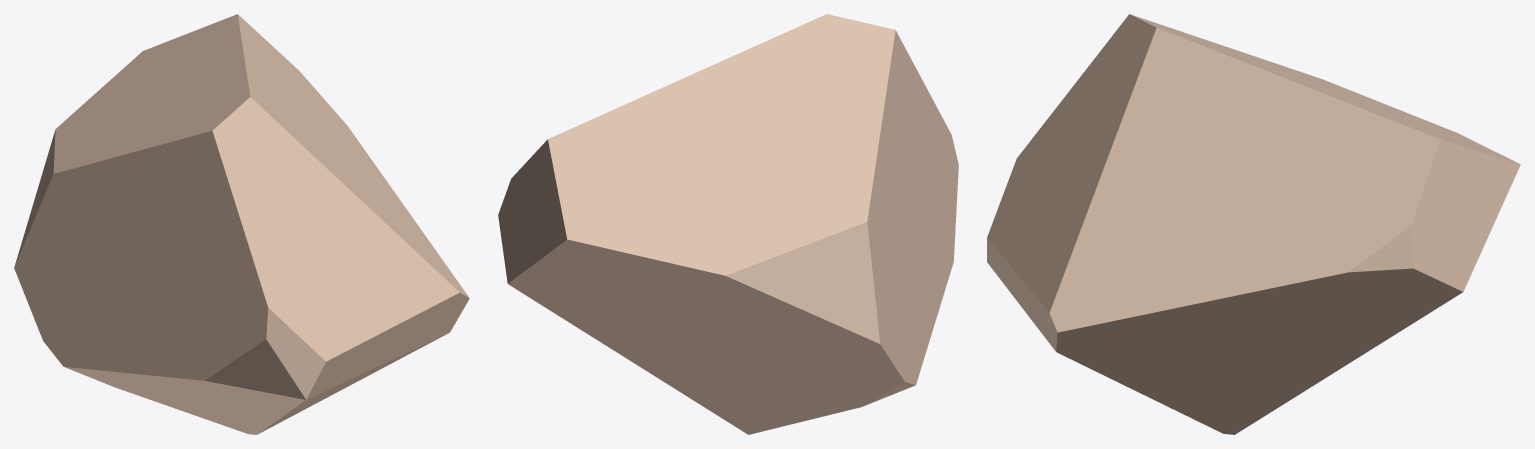
The model's file is rock_01.fbx.
The picture shows the model from 3 angles, left to right: view 1: azimuth 30°, elevation 25°; view 2: azimuth 150°, elevation 25°; view 3: azimuth 270°, elevation 25°; orthographic projection. The views are drawn at different scales.
Visible parts, largest first — view 1: Gemstone_003; view 2: Gemstone_003; view 3: Gemstone_003.
Boxes of the visible parts, left/top/right/bottom form: Gemstone_003: left=14, top=14, right=469, bottom=434; Gemstone_003: left=498, top=14, right=958, bottom=434; Gemstone_003: left=987, top=14, right=1520, bottom=434.
Size of the model in its own units: 46.97 by 50.44 by 62.68.
Materials: 1 (1 with a texture image).
